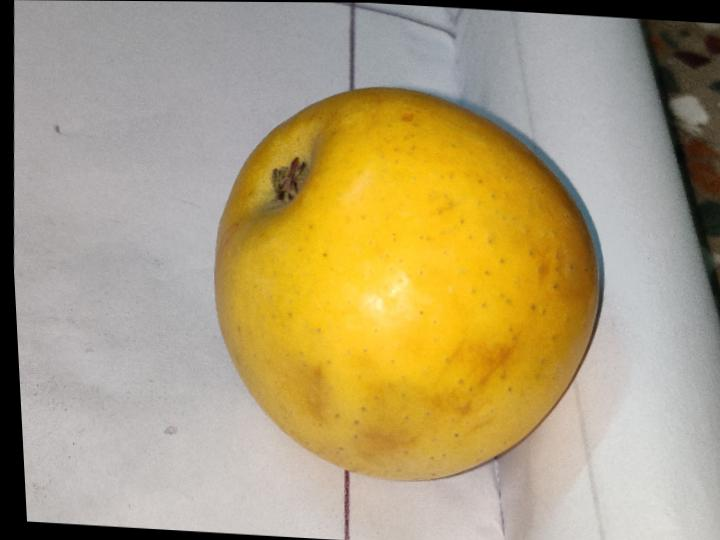apple: (215, 88, 597, 480)
